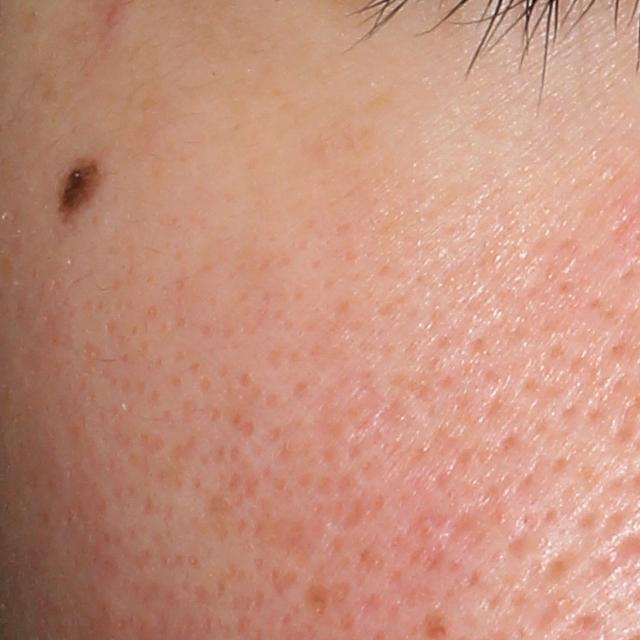nevus: (52, 157, 107, 221)
